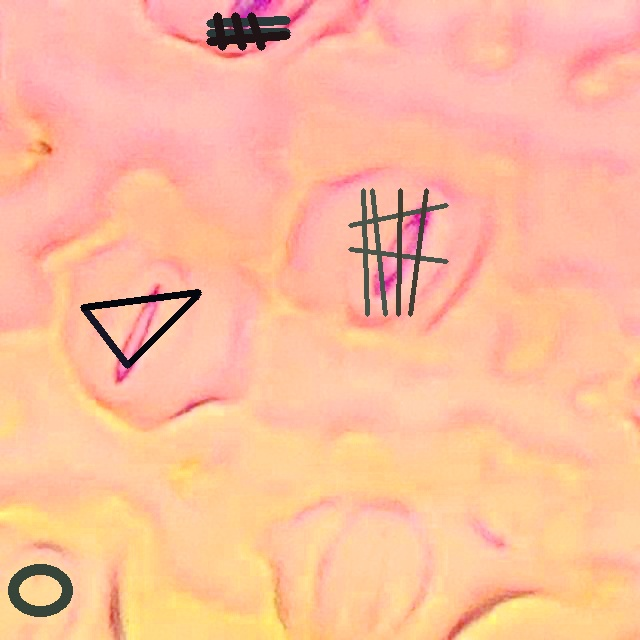close: (9, 563, 72, 617)
open: (349, 189, 448, 316), (80, 289, 198, 368), (207, 13, 289, 49)
